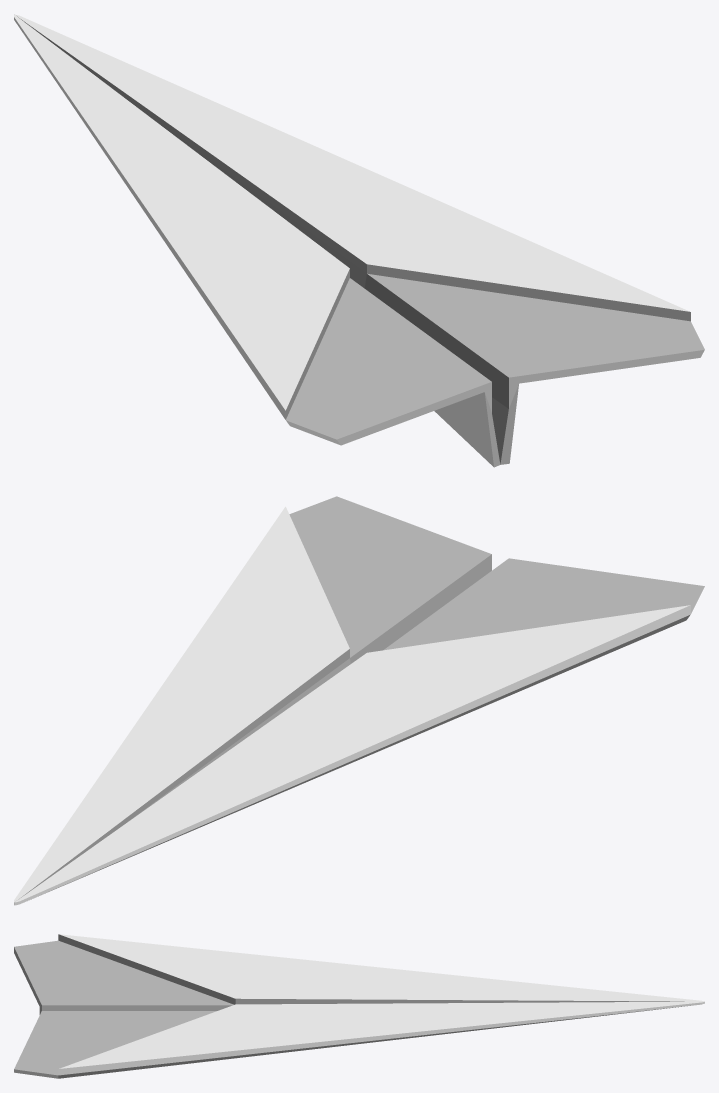
Rendered from paperPlane.fbx.
The picture shows the model from 3 angles, top to bottom: view 1: azimuth 30°, elevation 25°; view 2: azimuth 150°, elevation 25°; view 3: azimuth 270°, elevation 25°; orthographic projection. The views are drawn at different scales.
Visible parts, largest first — view 1: Cube; view 2: Cube; view 3: Cube.
Boxes of the visible parts, x1,y1,x2,y2 form: Cube: [14, 14, 704, 467]; Cube: [14, 496, 704, 905]; Cube: [14, 934, 704, 1078].
Size of the model in its own units: 211 by 47.09 by 457.
